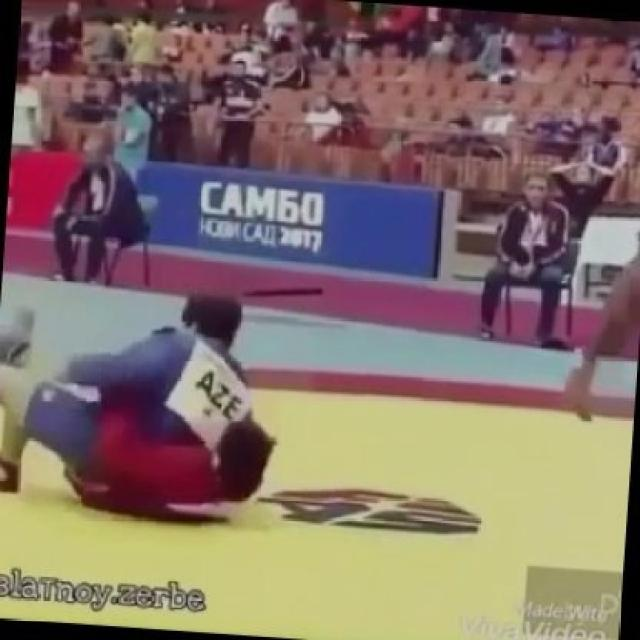fight: (0, 245, 300, 546)
non-fight: (466, 160, 582, 352), (43, 120, 157, 294)
